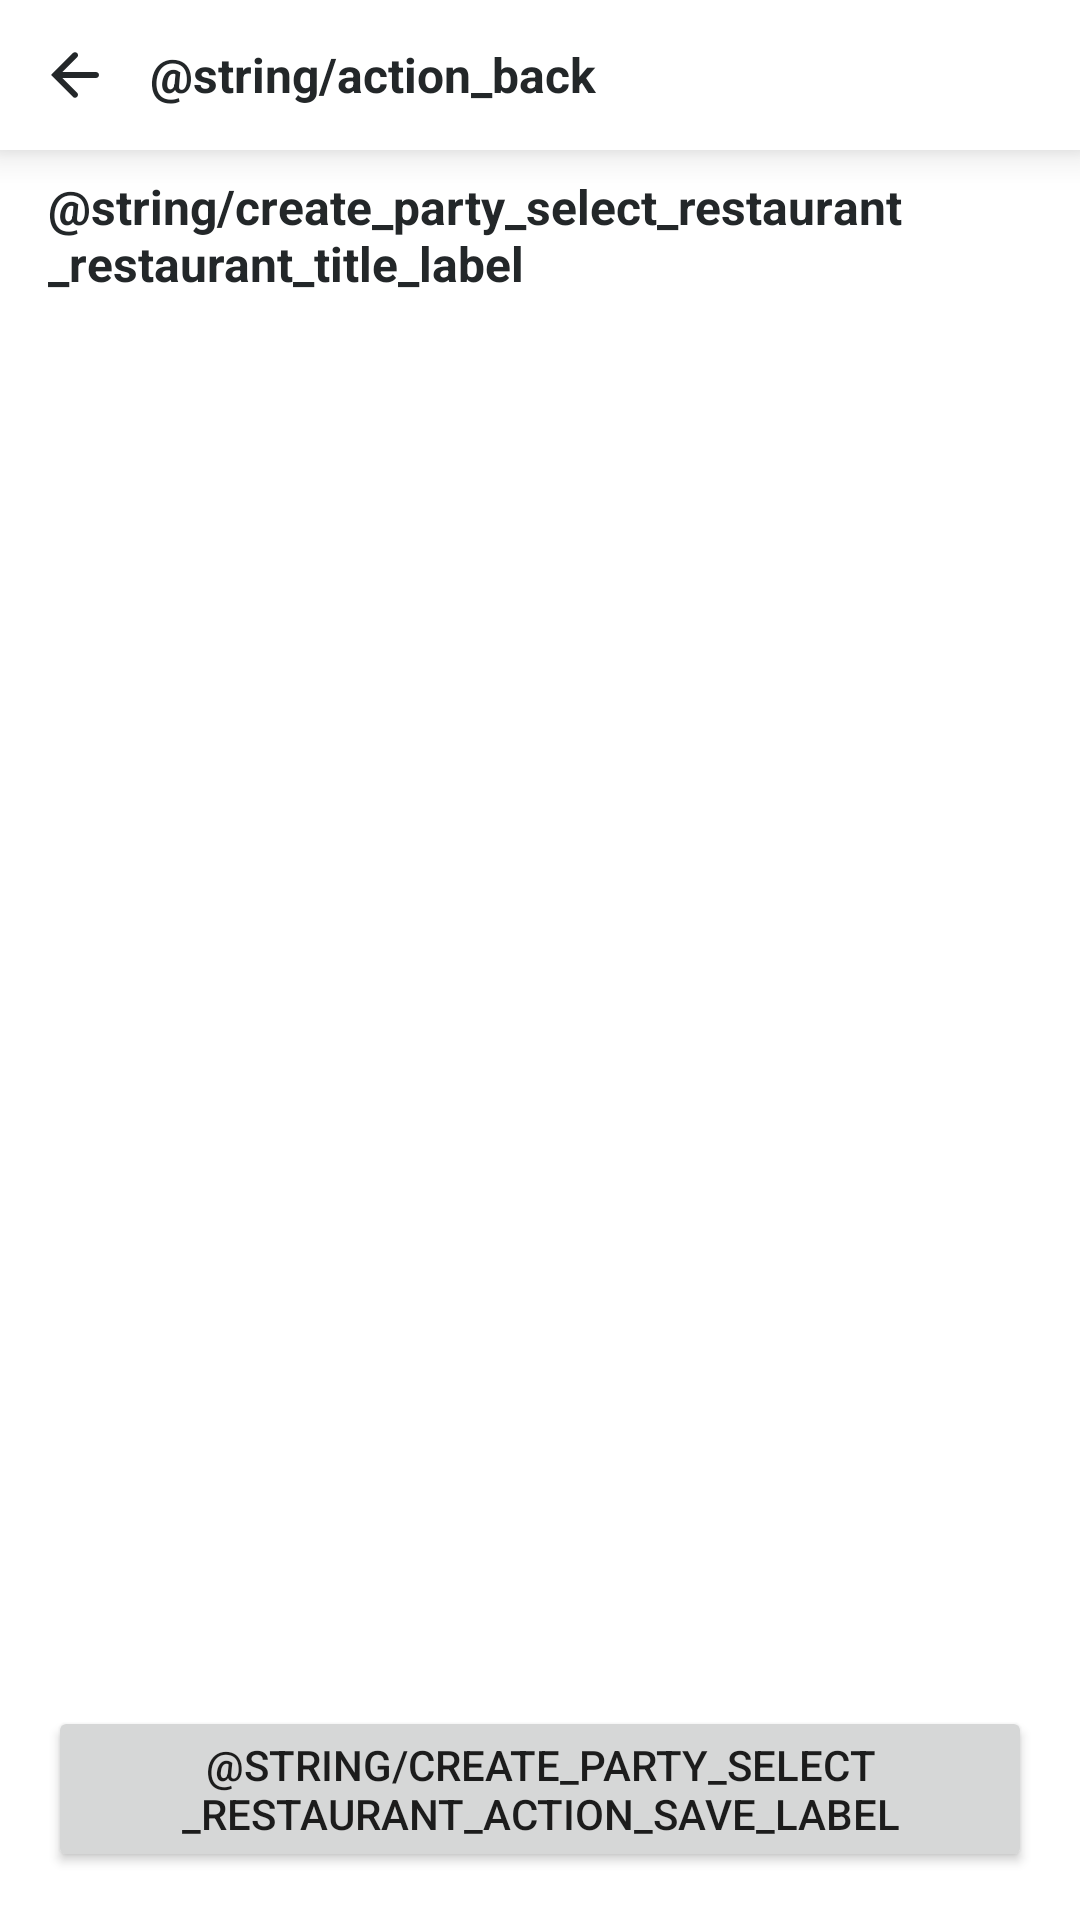

Point at icon controls on the screen. Image size 1080x1920, points as [x,y].
arrow back: [75,75]
